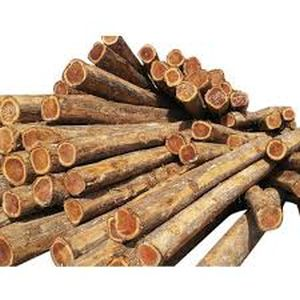log: (59, 167, 91, 198), (114, 205, 140, 242), (48, 237, 77, 269), (2, 154, 28, 188), (133, 242, 165, 269), (256, 204, 285, 231), (61, 60, 88, 88), (31, 176, 54, 208), (1, 189, 23, 222), (54, 139, 78, 168), (30, 145, 53, 175), (22, 129, 56, 149), (62, 198, 87, 225), (1, 96, 22, 126), (205, 87, 229, 111), (40, 95, 61, 122), (165, 132, 189, 154), (228, 88, 253, 109), (175, 82, 200, 102), (265, 138, 287, 160), (86, 40, 106, 64), (186, 71, 211, 89), (191, 119, 212, 139), (178, 143, 198, 163), (165, 48, 184, 68), (164, 67, 182, 88), (138, 44, 157, 63), (183, 56, 202, 75), (265, 110, 282, 130), (151, 61, 167, 82), (281, 107, 296, 121)
